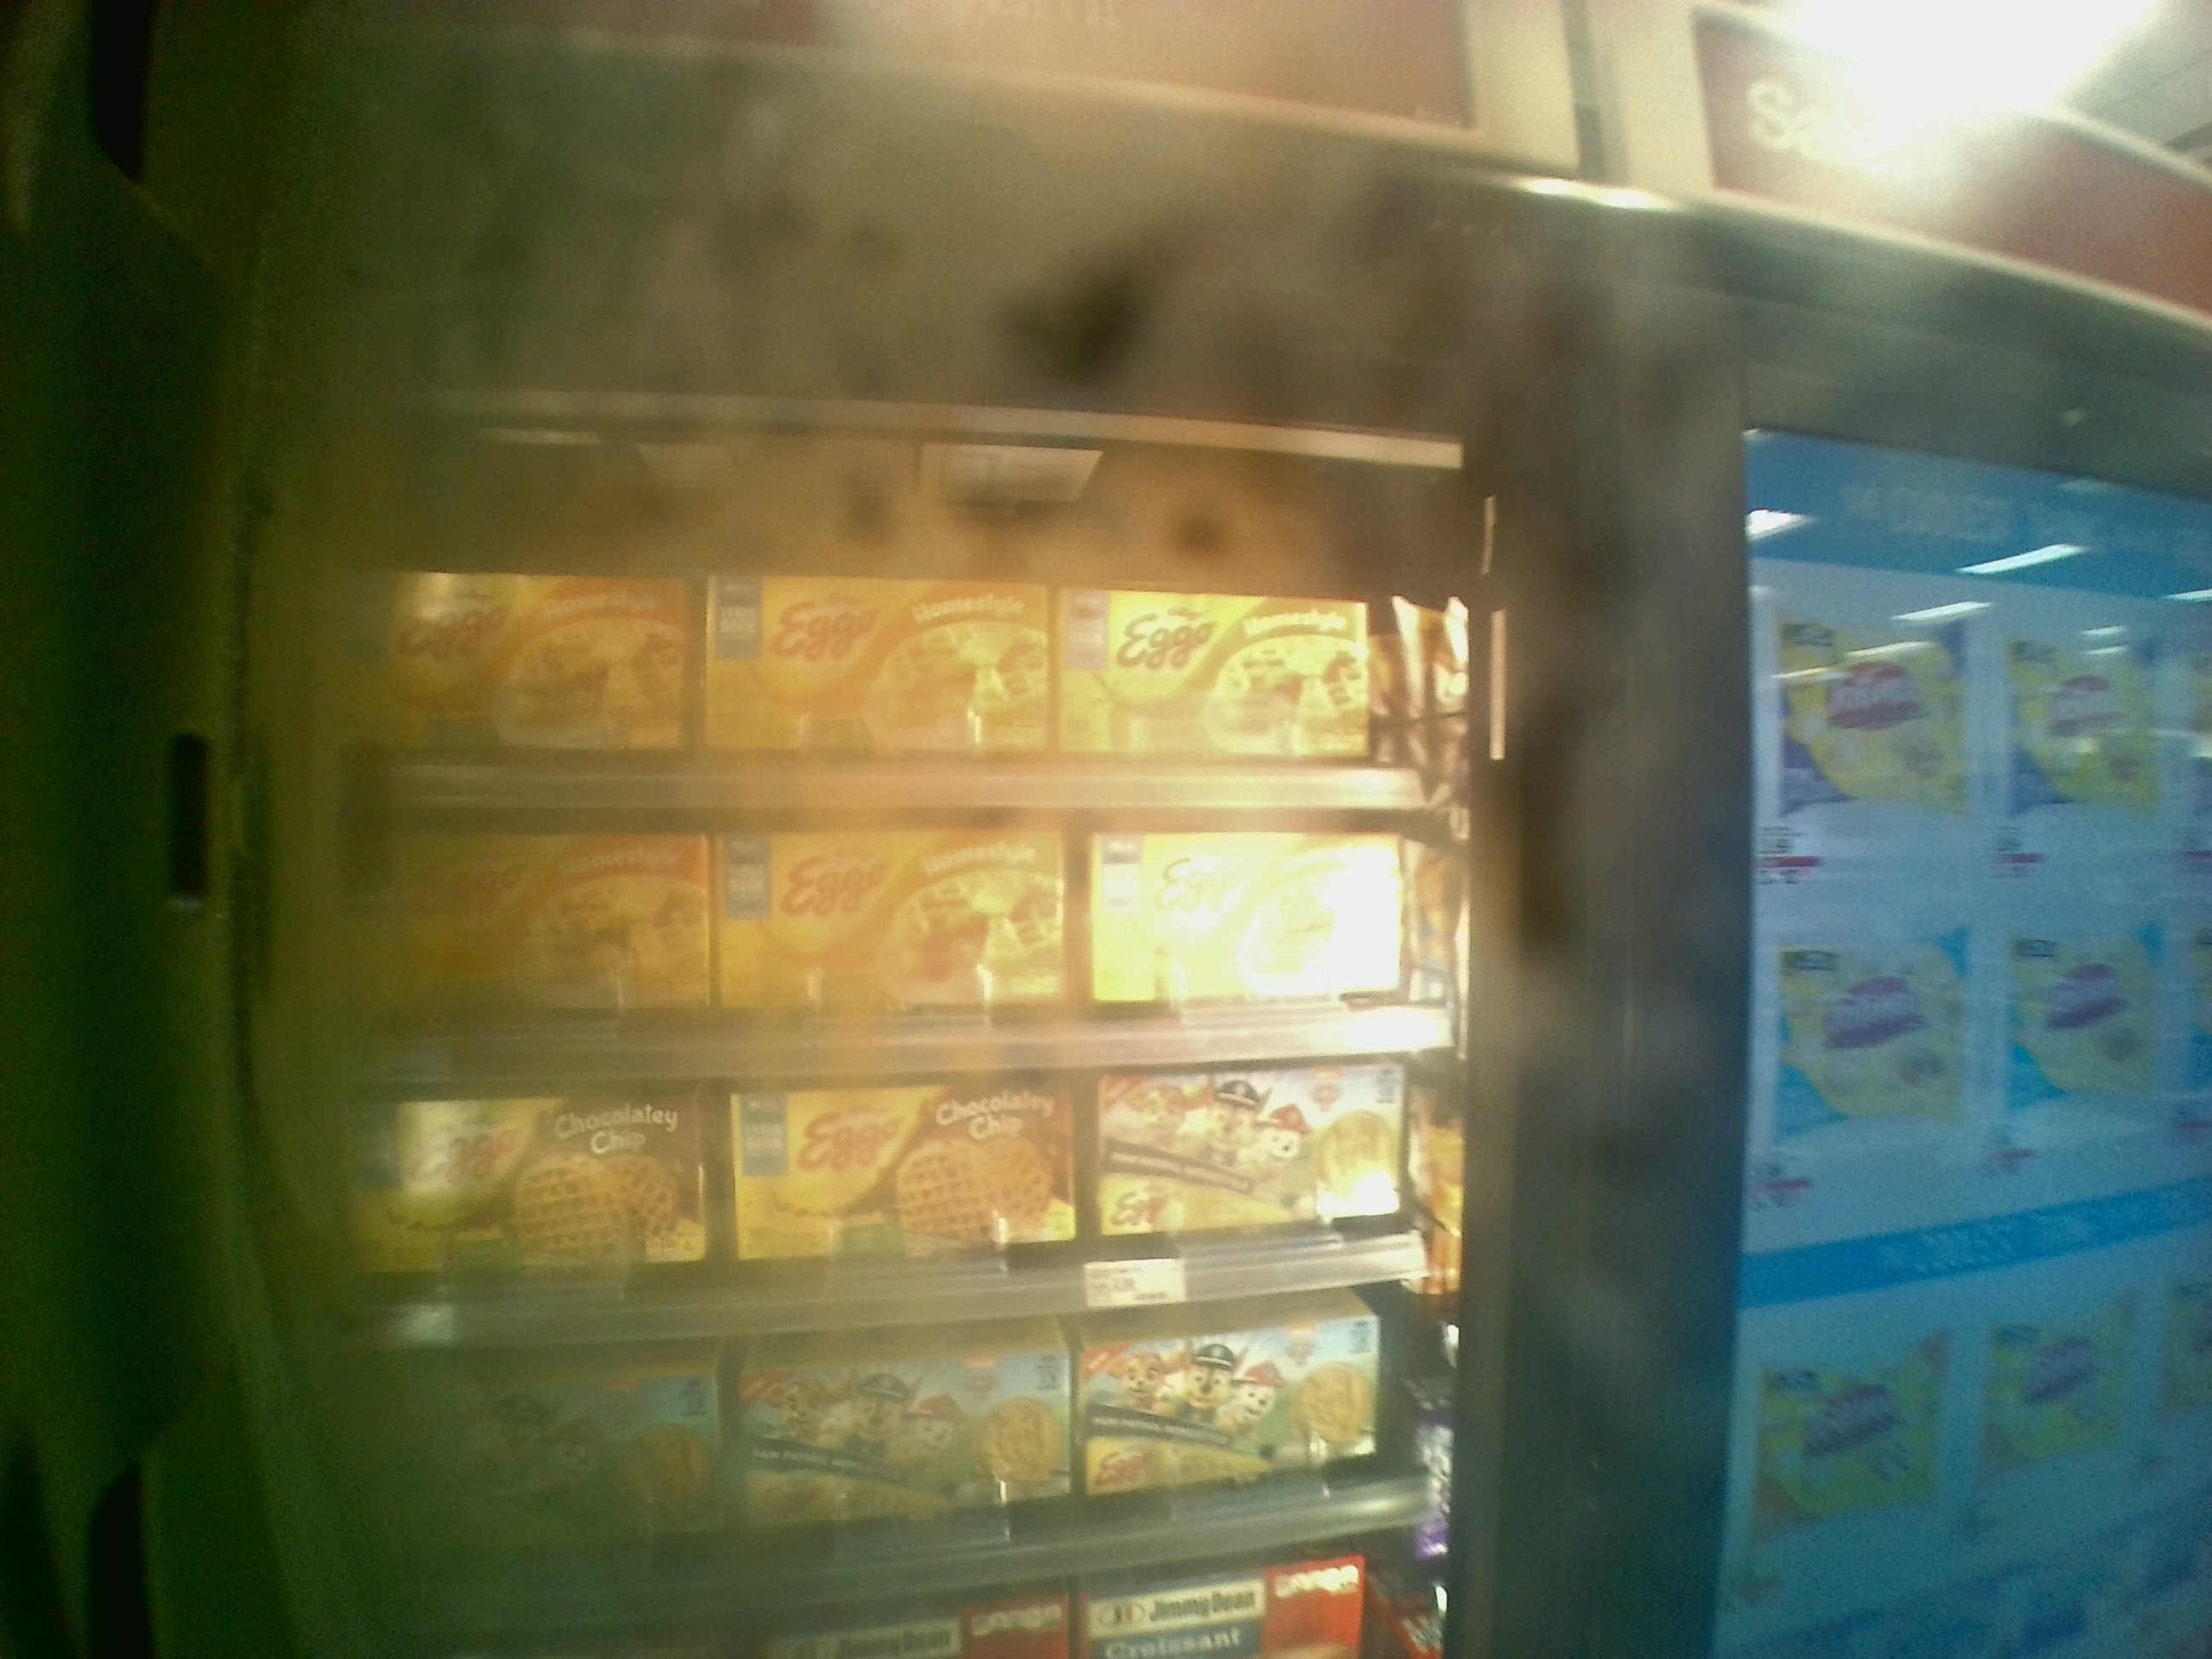shelf: (340, 483, 1440, 817), (340, 1044, 1465, 1356), (343, 817, 1475, 1079)
